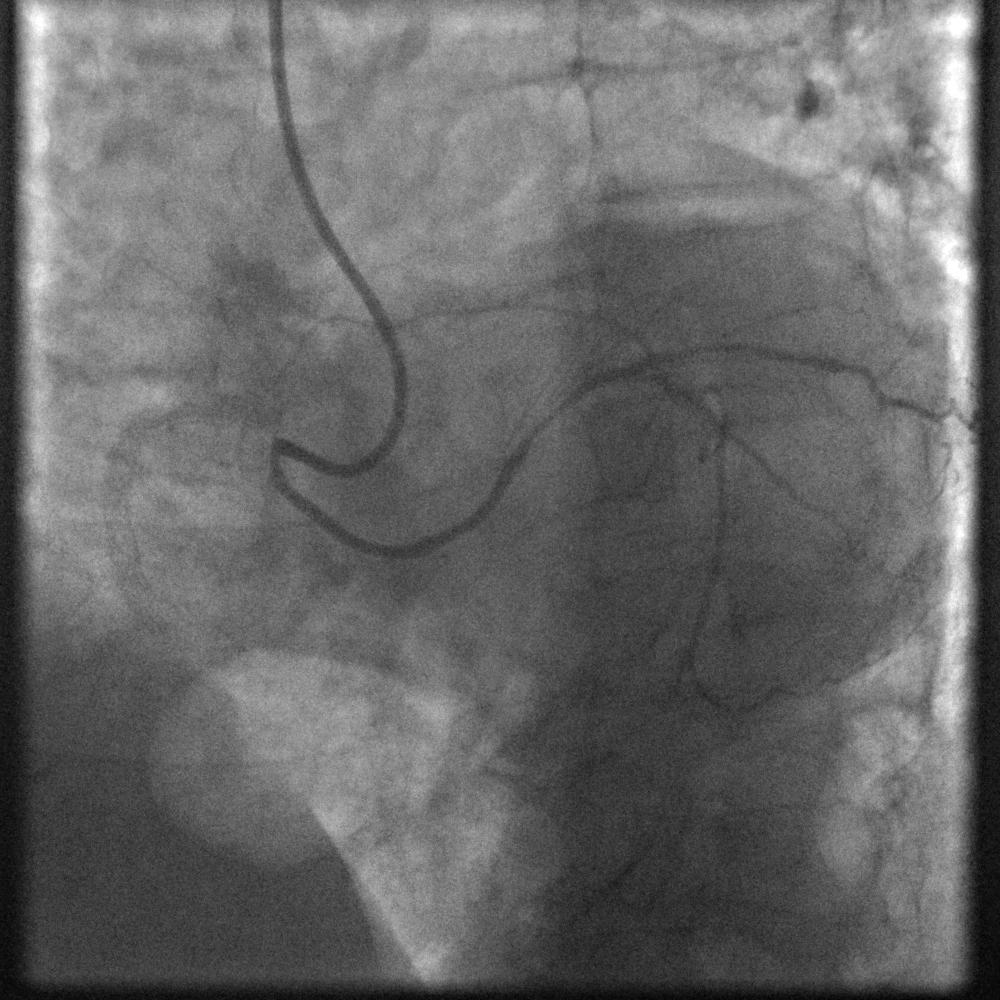Stenosis: (525, 388, 576, 442)
